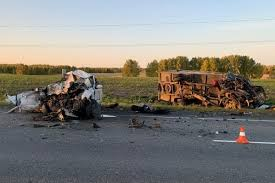car: (140, 59, 273, 120), (19, 57, 105, 124)
